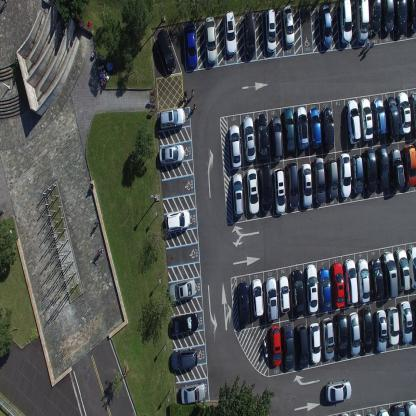car: (156, 28, 176, 74), (381, 251, 398, 299), (168, 277, 196, 304), (170, 311, 199, 337), (346, 99, 362, 144), (290, 268, 305, 316), (204, 15, 218, 65), (354, 0, 369, 46), (389, 148, 405, 191), (286, 160, 300, 209), (258, 164, 272, 212), (228, 122, 242, 170), (396, 90, 411, 134), (384, 96, 399, 140), (359, 97, 374, 141), (398, 300, 413, 344), (395, 247, 410, 291), (363, 147, 377, 194), (246, 167, 260, 214), (344, 258, 358, 305), (171, 346, 198, 370), (320, 106, 335, 149), (242, 116, 256, 162), (330, 262, 344, 308), (334, 312, 348, 358), (256, 113, 269, 162), (338, 0, 352, 45), (371, 98, 386, 140), (338, 152, 352, 197), (369, 258, 384, 300), (282, 322, 295, 370), (165, 208, 191, 232), (180, 381, 206, 405), (158, 142, 185, 165), (402, 144, 416, 188), (376, 146, 390, 190), (347, 312, 361, 356), (318, 268, 332, 312), (321, 316, 335, 360), (306, 262, 318, 313), (270, 114, 283, 161), (360, 306, 373, 353), (266, 276, 279, 323), (357, 257, 370, 303), (237, 280, 250, 326), (159, 107, 185, 130), (325, 379, 352, 401), (308, 108, 322, 150), (264, 8, 277, 53), (244, 10, 256, 58), (185, 22, 197, 70), (283, 106, 295, 154), (350, 154, 364, 195), (319, 4, 332, 48), (374, 309, 387, 353), (313, 157, 325, 204), (273, 167, 285, 214), (224, 10, 236, 56), (296, 323, 308, 369), (282, 4, 295, 46), (308, 322, 321, 364), (232, 172, 244, 217), (386, 307, 400, 345), (300, 163, 312, 207), (296, 106, 308, 149), (251, 278, 264, 317), (368, 0, 382, 36), (326, 157, 338, 199), (270, 324, 282, 366), (394, 0, 407, 36), (279, 275, 290, 313), (382, 0, 393, 34), (408, 245, 415, 290), (408, 0, 415, 34), (410, 92, 415, 137), (405, 400, 416, 416), (412, 298, 416, 340), (392, 403, 406, 415), (378, 408, 389, 415), (365, 411, 375, 415), (340, 411, 350, 415), (353, 411, 362, 415)
